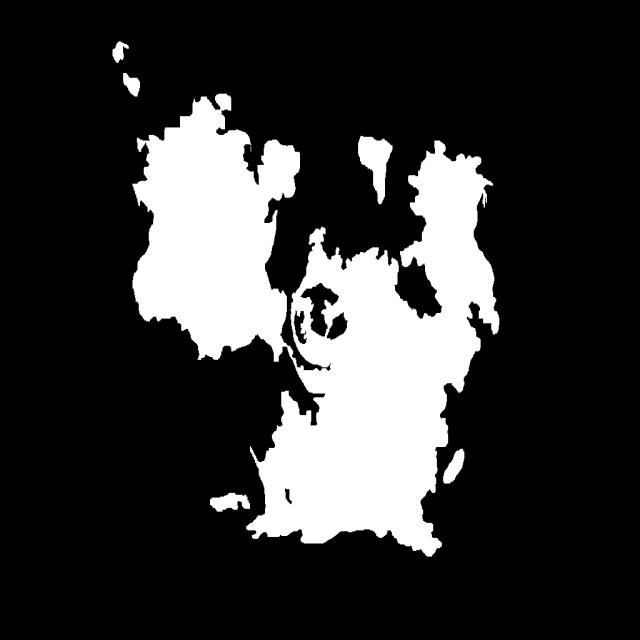fire: (85, 46, 549, 580)
